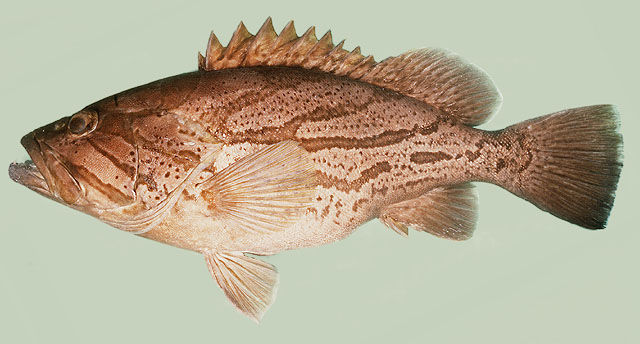fish: (8, 17, 625, 326)
